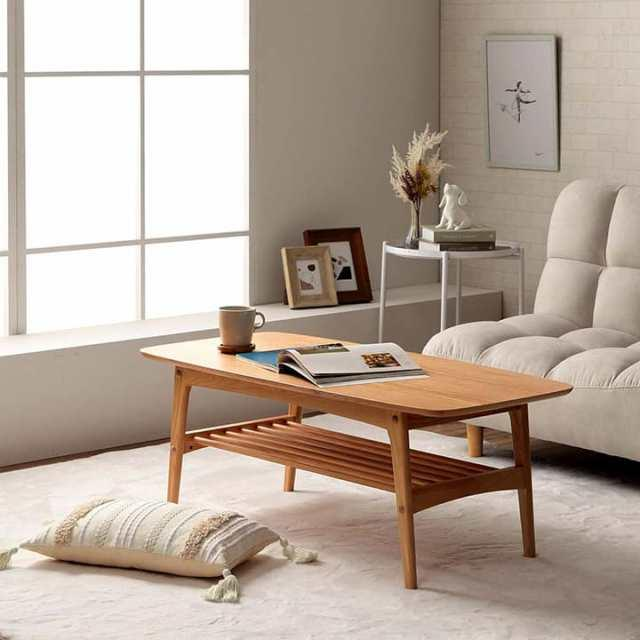natural desk: (147, 326, 551, 576)
